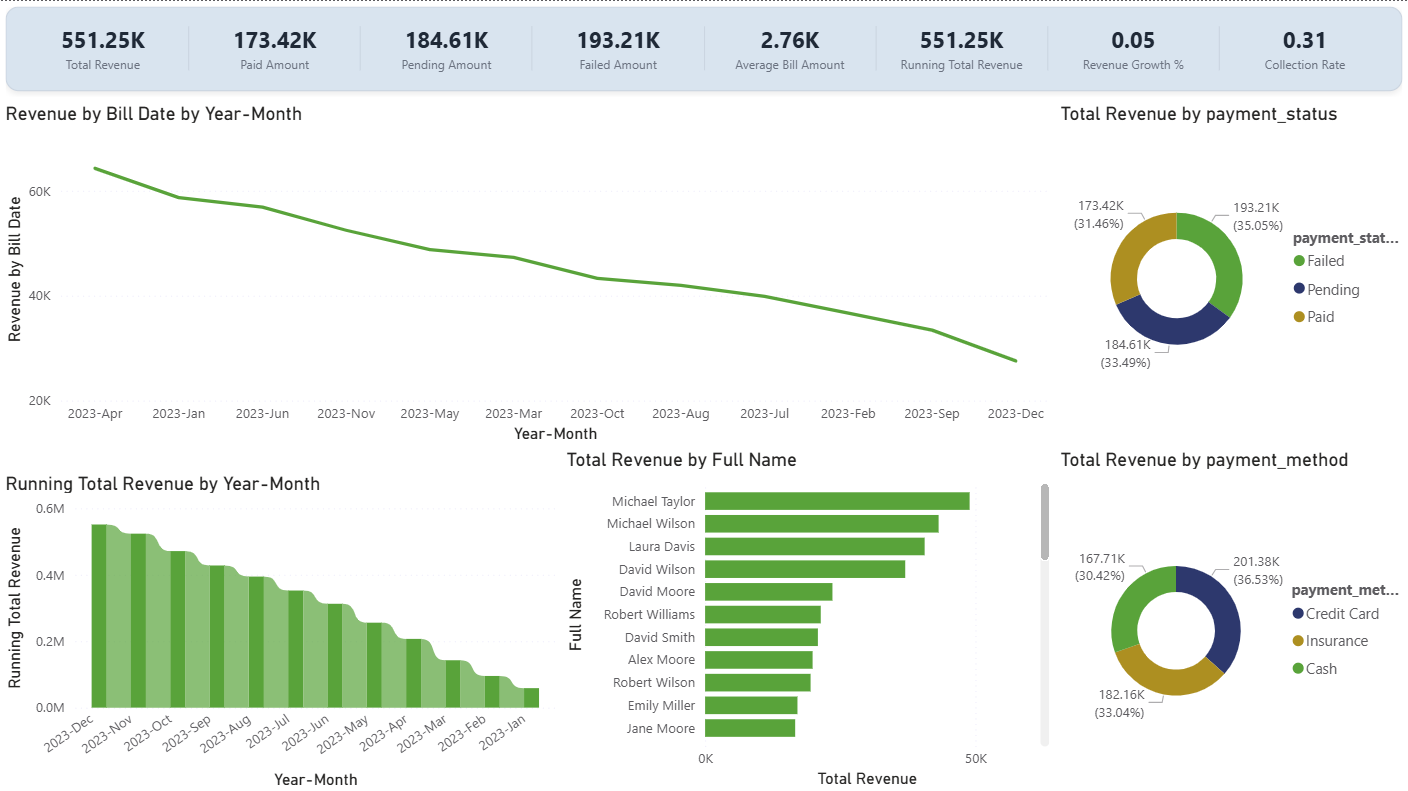

The dashboard page shown, as its layout file describes it:
{"tool":"powerbi","page":{"name":"Billing & Revenue","canvas":[1280,720],"ordinal":5},"visuals":[{"type":"htmlContent443BE3AD55E043BF878BED274D3A6855","fields":{"content":["DateTable.Finance Cards Group HTML"]},"box":[0,0,1280,92.2],"z":0},{"type":"lineChart","fields":{"Category":["DateTable.Year-Month"],"Y":["DateTable.Revenue by Bill Date"]},"box":[0,92.2,958.9,314.4],"z":1000},{"type":"ribbonChart","fields":{"Category":["DateTable.Year-Month"],"Y":["DateTable.Running Total Revenue"]},"box":[0,427.8,510,292.2],"z":2000},{"type":"donutChart","fields":{"Category":["billing.payment_status"],"Y":["billing.Total Revenue"]},"box":[958.9,92.2,321.1,302.2],"z":3000},{"type":"donutChart","fields":{"Category":["billing.payment_method"],"Y":["billing.Total Revenue"]},"box":[958.9,406.7,321.1,313.3],"z":4000},{"type":"barChart","fields":{"Category":["patients.Full Name"],"Y":["billing.Total Revenue"]},"box":[510,406.7,448.9,313.3],"z":5000}]}

Visuals, with their boxes in screenshot pixels (x1, y1, x2, y2), scaled from the page's 1280x720 canvas onto the 1408x791 screenshot:
htmlContent443BE3AD55E043BF878BED274D3A6855 - DateTable.Finance Cards Group HTML: crop(0, 0, 1407, 101)
lineChart - DateTable.Year-Month x DateTable.Revenue by Bill Date: crop(0, 101, 1055, 447)
ribbonChart - DateTable.Year-Month x DateTable.Running Total Revenue: crop(0, 470, 561, 790)
donutChart - billing.payment_status x billing.Total Revenue: crop(1055, 101, 1407, 433)
donutChart - billing.payment_method x billing.Total Revenue: crop(1055, 447, 1407, 790)
barChart - patients.Full Name x billing.Total Revenue: crop(561, 447, 1055, 790)
